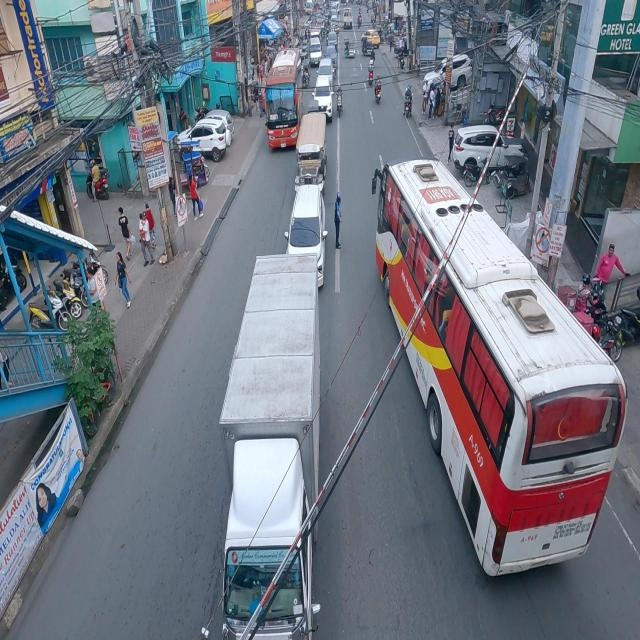Truck: (214, 251, 324, 640)
